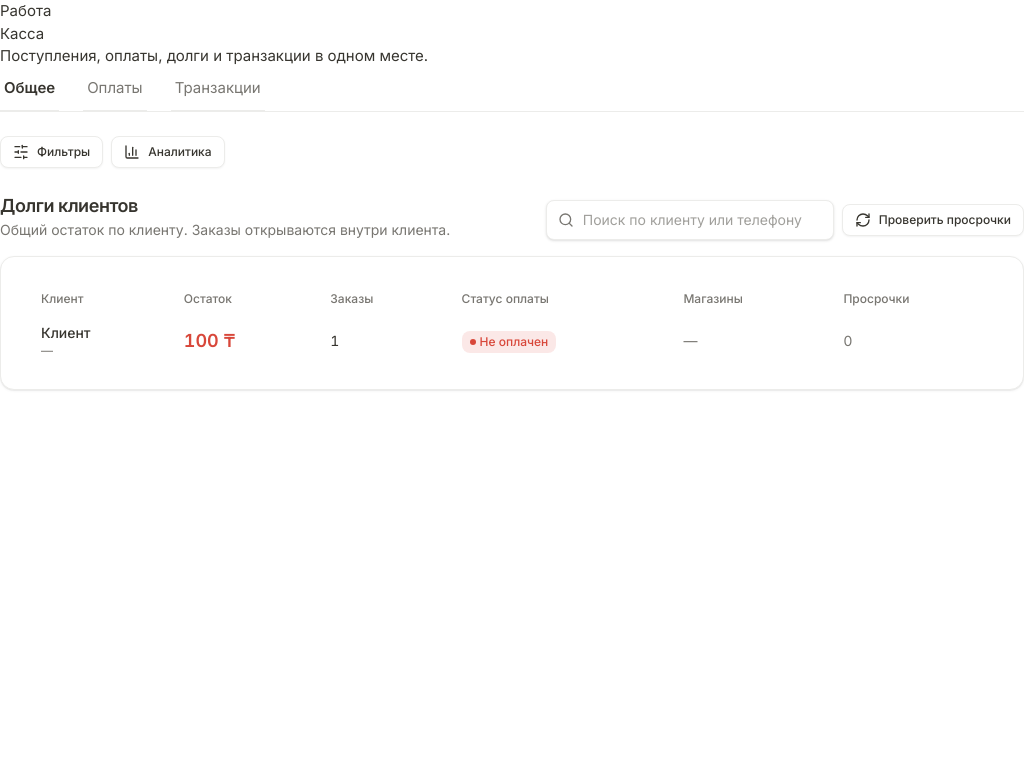
Test: uses overview dates for its payment card and never presents a failed queue as zero
Click the button "Аналитика". click: (168, 152)
box: [111,136,225,168]
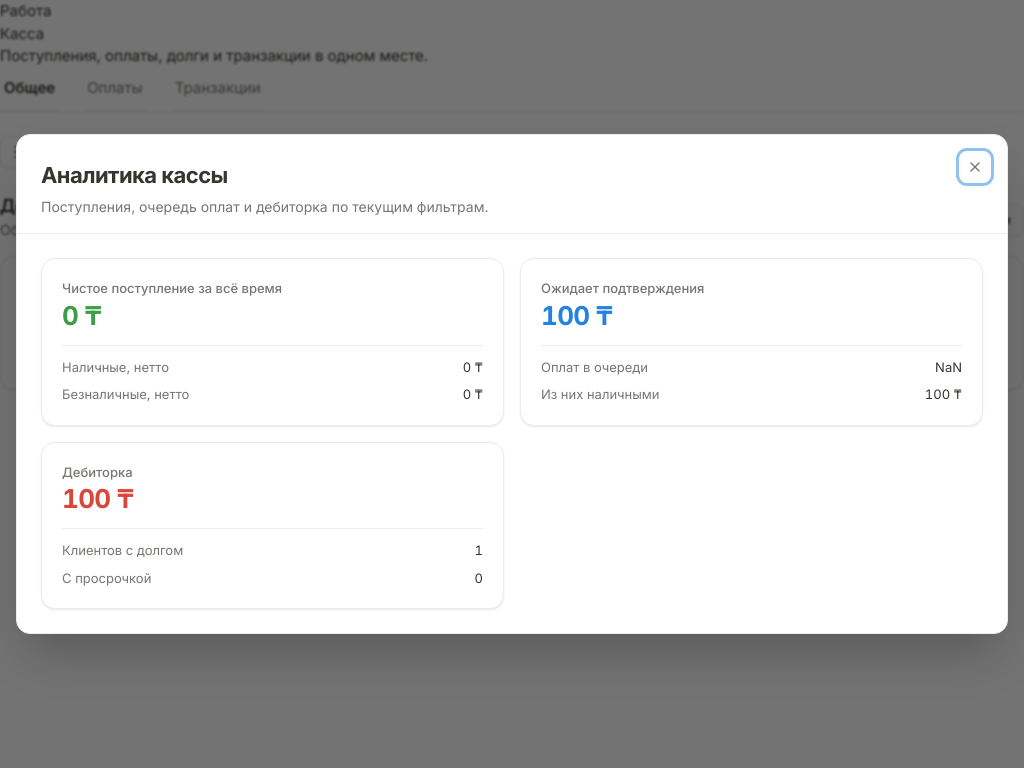
Check: the 1st text "100 ₸" is shown, box [541,300,612,330]
Click the button named "Закрыть". click: (975, 167)
box: [959,151,991,183]
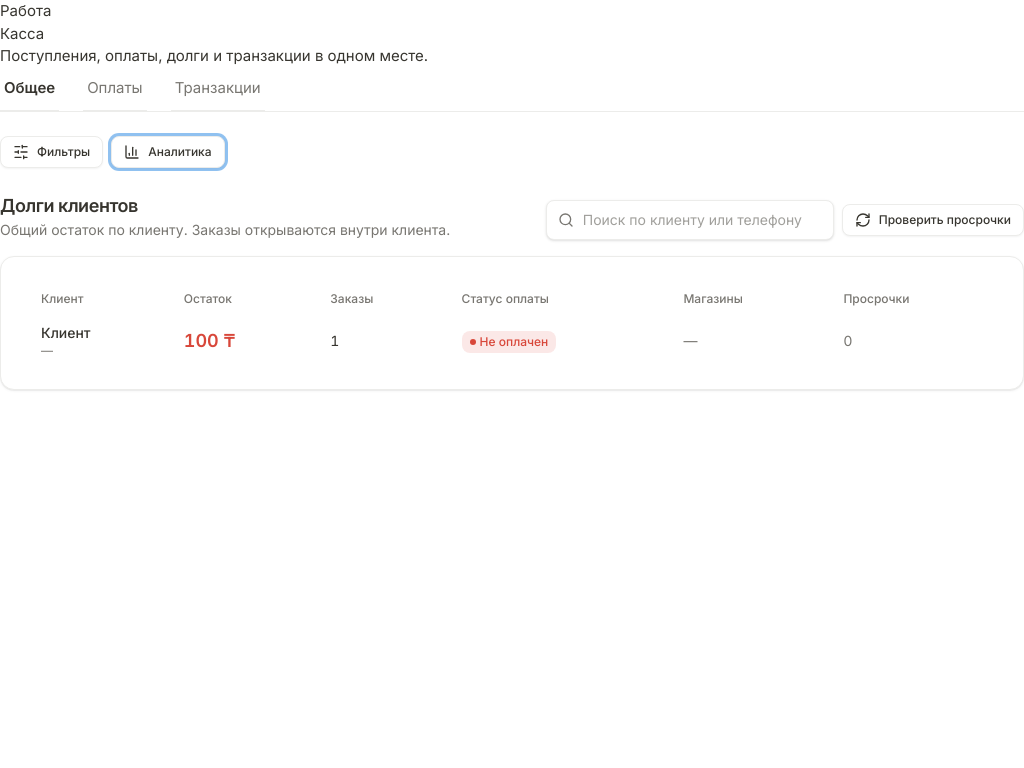
Click the button "Фильтры". click: (52, 152)
box: [0,136,103,168]
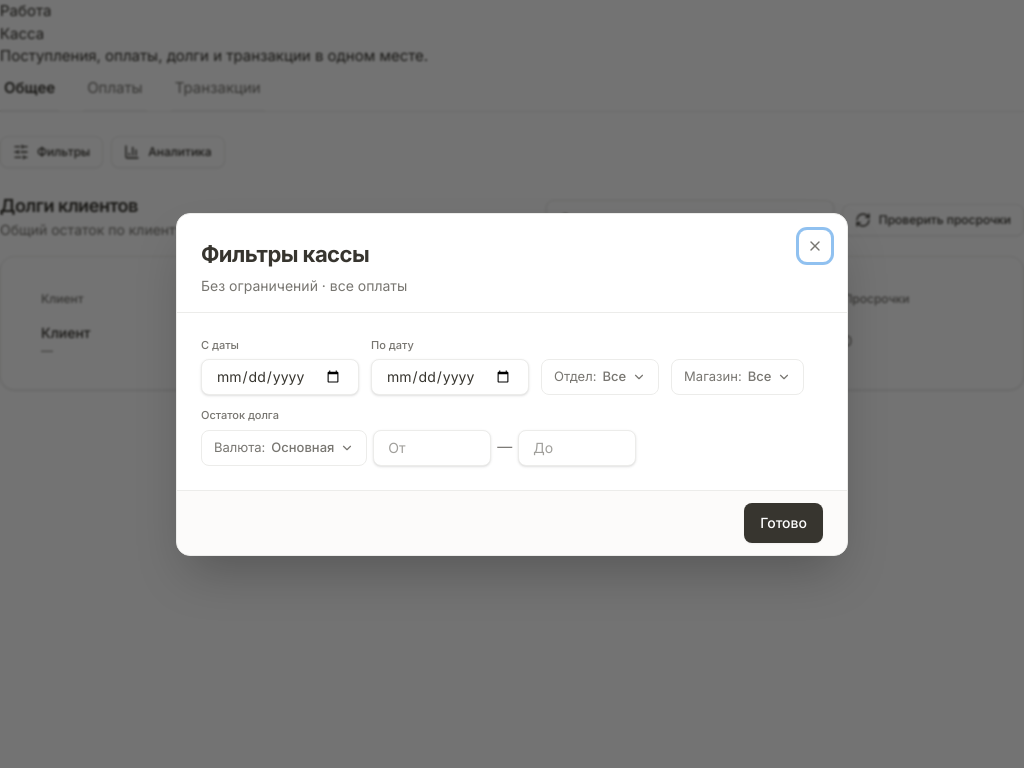
Type "2026-09-01" into the date field labelled "С даты". click: (280, 377)
box: [201,359,359,395]
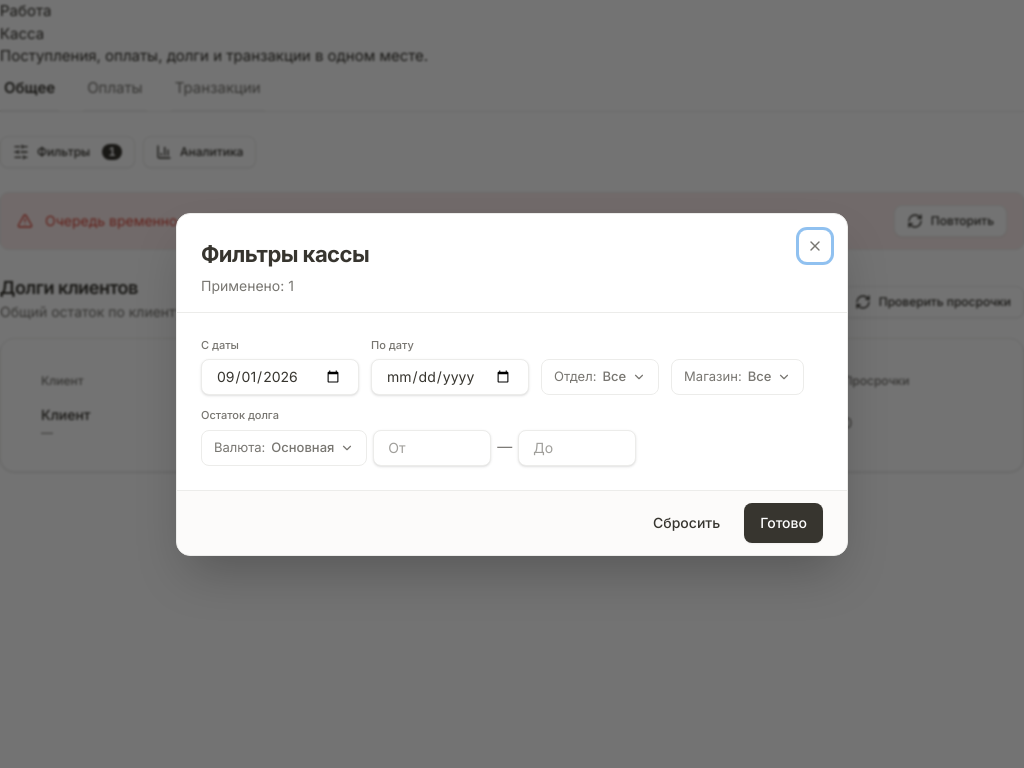
Click the button named "Закрыть". click: (815, 246)
box: [799,230,831,262]
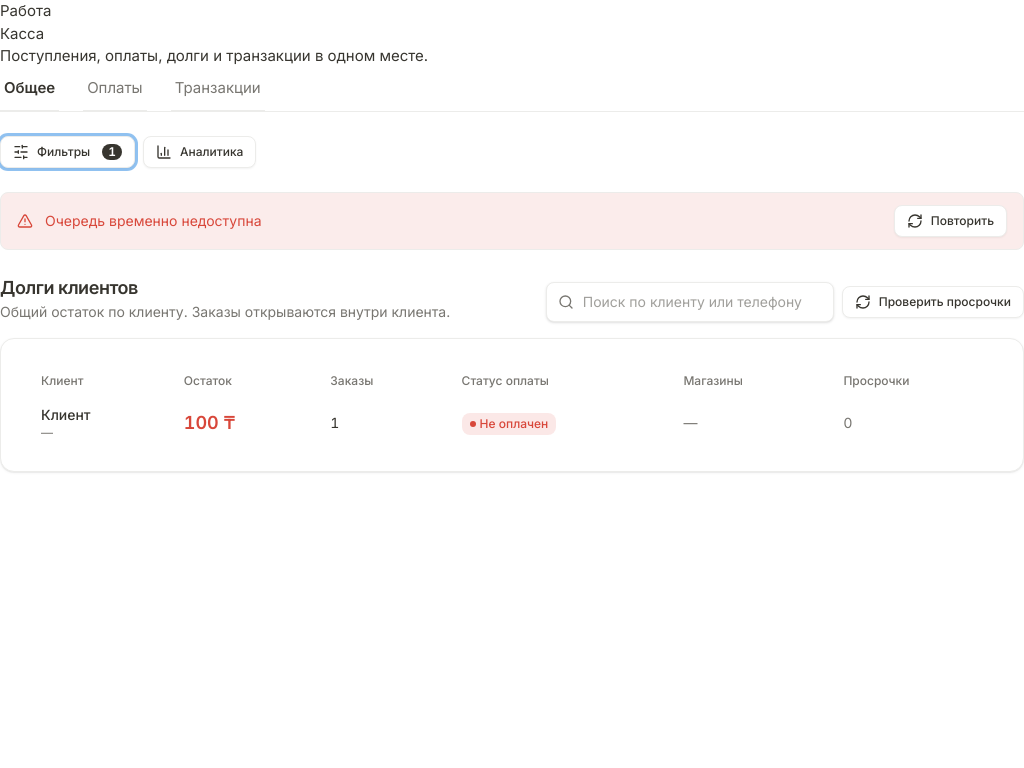
Check: the text "Очередь временно недоступна" is shown, box [45,210,262,230]
Click the button "Аналитика". click: (200, 152)
box: [143,136,256,168]
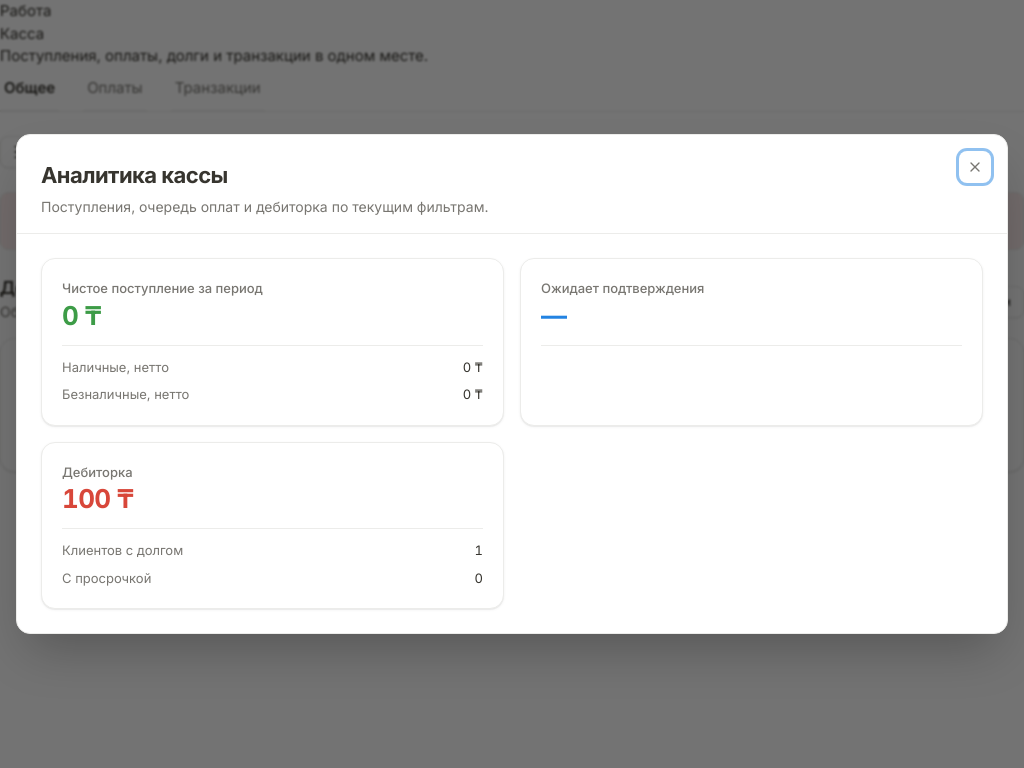
Check: the text "—" is shown, box [541,300,566,330]
